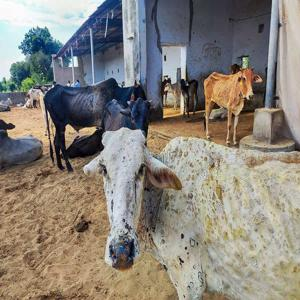lumpy skin diesease: (82, 126, 299, 299), (42, 77, 147, 172), (64, 97, 152, 158), (203, 65, 262, 147), (0, 116, 43, 172), (100, 97, 152, 142), (112, 80, 146, 106), (179, 78, 198, 118), (162, 78, 180, 109), (24, 88, 42, 108), (0, 98, 11, 112)
